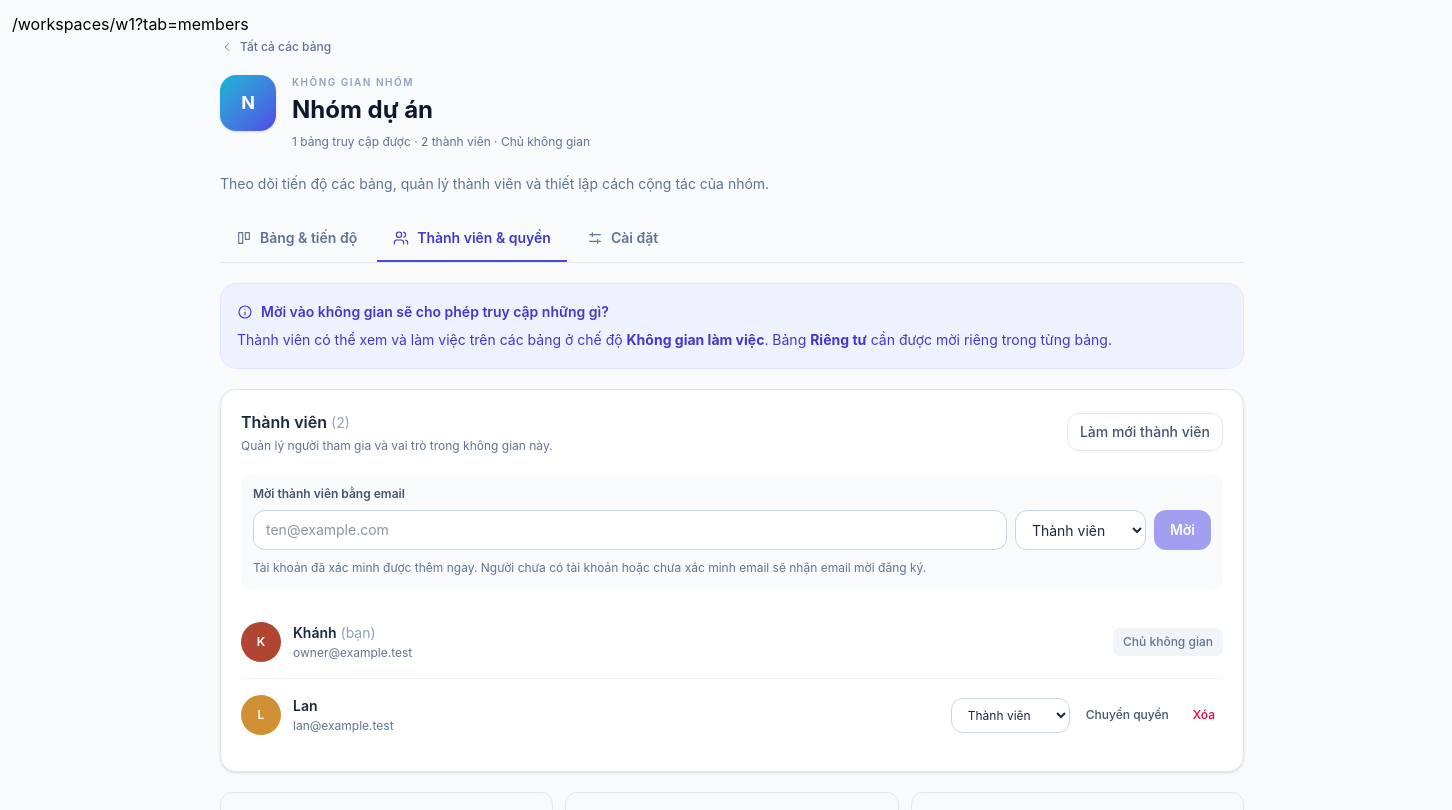
it: Workspace management › explains workspace access, confirms invitations and updates roles from the server
Expected: the heading "Thành viên (2)" is shown, [241,412,350,432]
Expected: the text "Riêng tư" is shown, [810,331,867,348]
Type "minh@example.test" into the field labelled "Mời thành viên bằng email" at (630,530), box [253,510,1007,550]
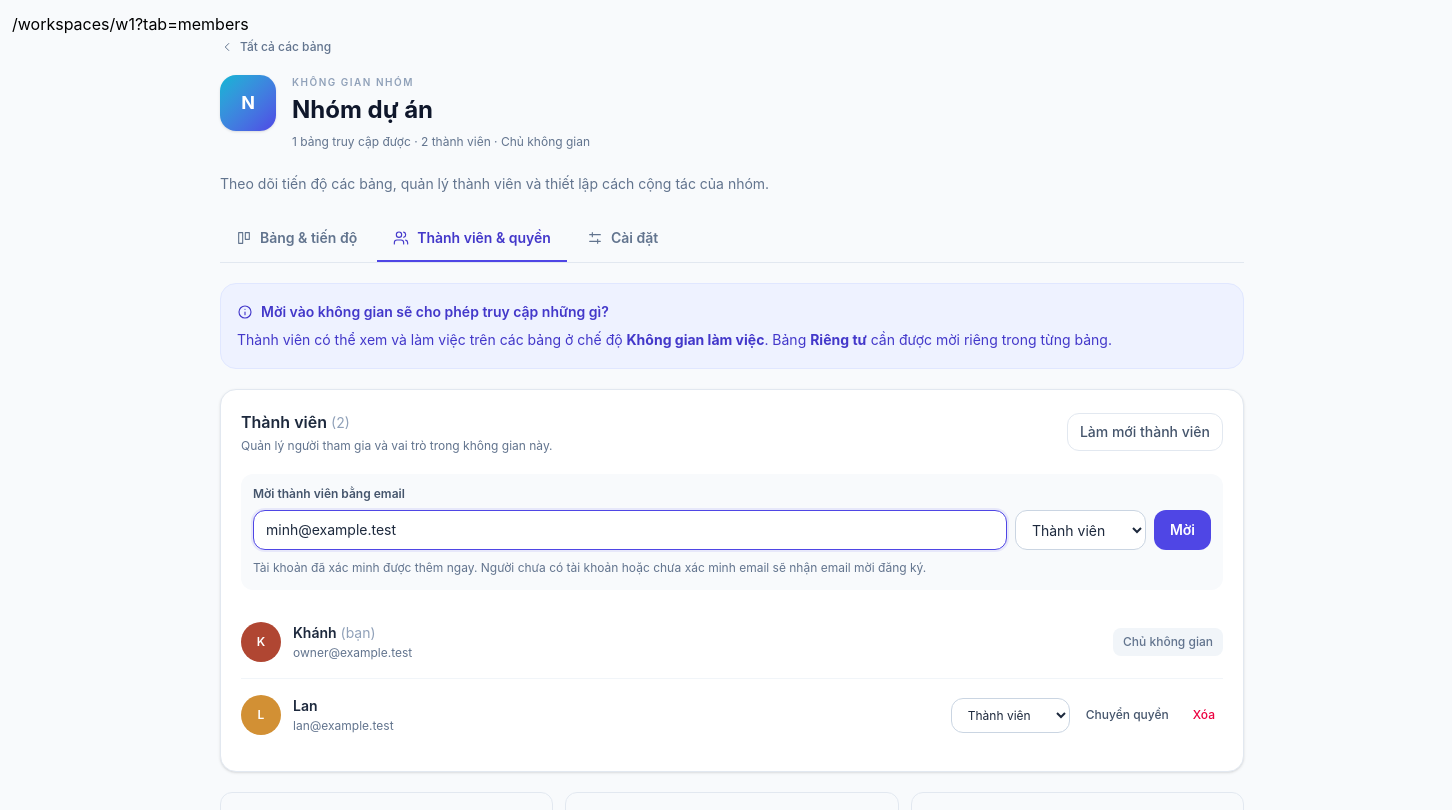
Click the button "Mời" at (1182,530), box [1154,510,1211,550]
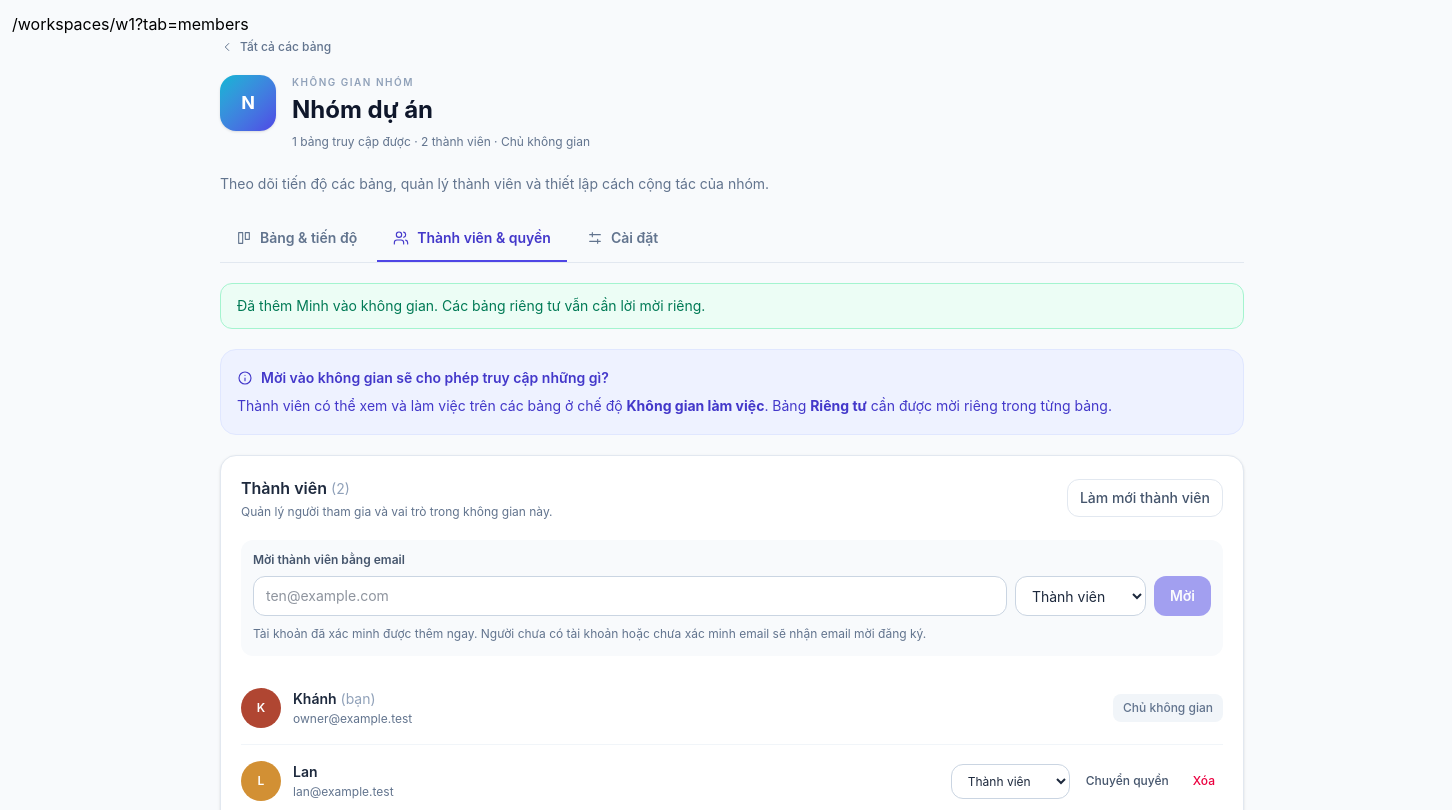
Expected: the message shows "Đã thêm Minh", [237,297,705,314]
Select "Quản trị viên" in the dropdown named "Vai trò của Lan" at (1010,781), box [951,764,1070,798]
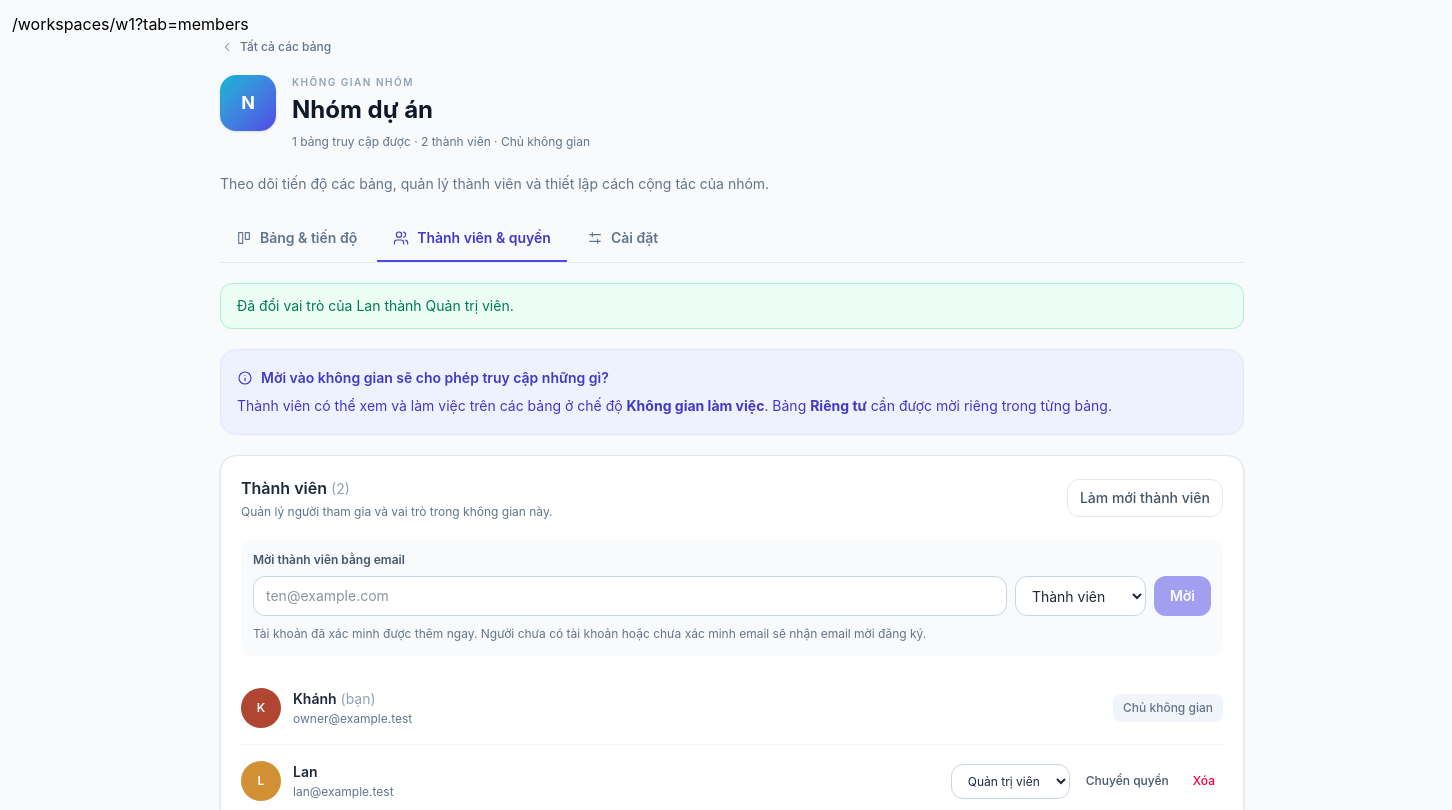
Expected: the message shows "Đã đổi vai trò của Lan", [237,297,514,314]
